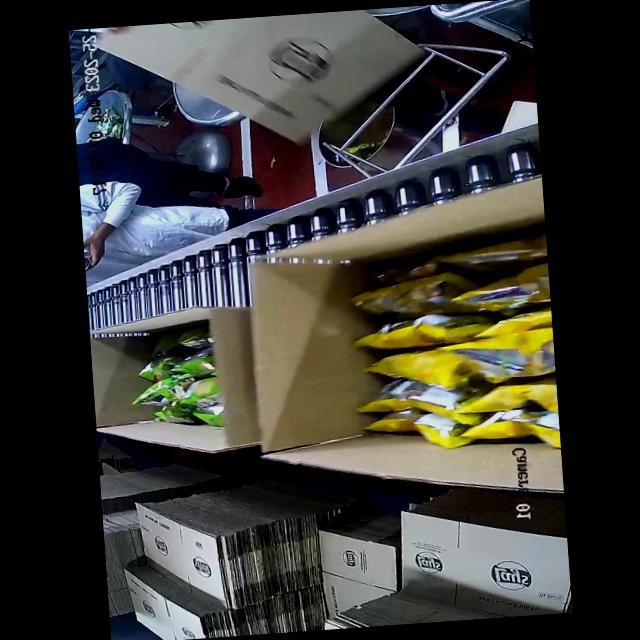salted: (294, 242, 558, 438)
yogurt: (131, 347, 228, 427)
